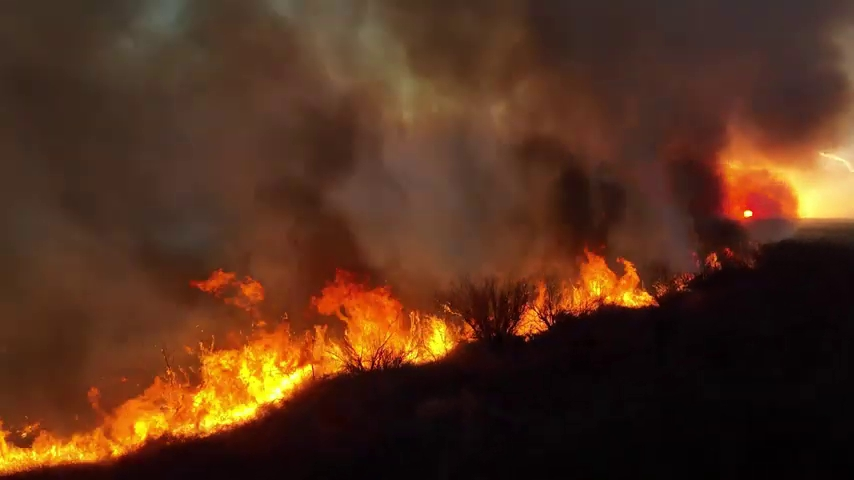forest_fire: (0, 270, 484, 473), (511, 250, 657, 336), (192, 269, 264, 319)
